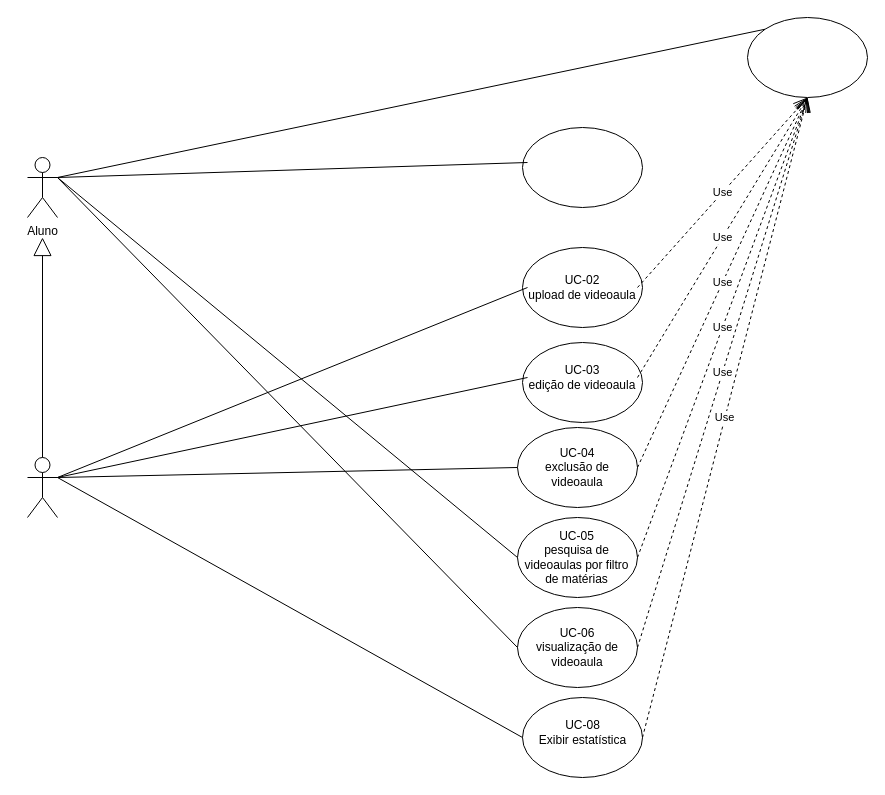
The diagram is 885 pixels wide and 795 high, and some of its shapes have lost their labels. Here are the shapes that lost their labels. From the top down, the centre of each, then its label:
At point 807,57: "UC-07 Login de Usuário".
At point 582,167: "UC-01 cadastro de usuário".
At point 42,487: "Professor".
